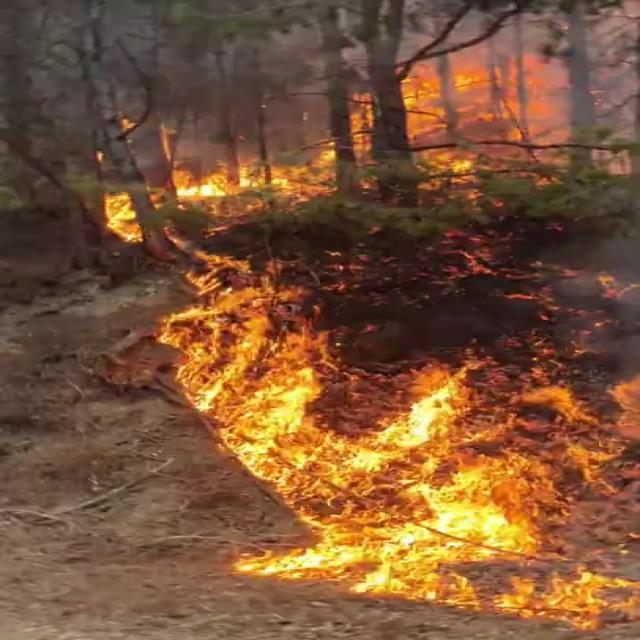Fire: (86, 302, 640, 614), (89, 45, 619, 255)
